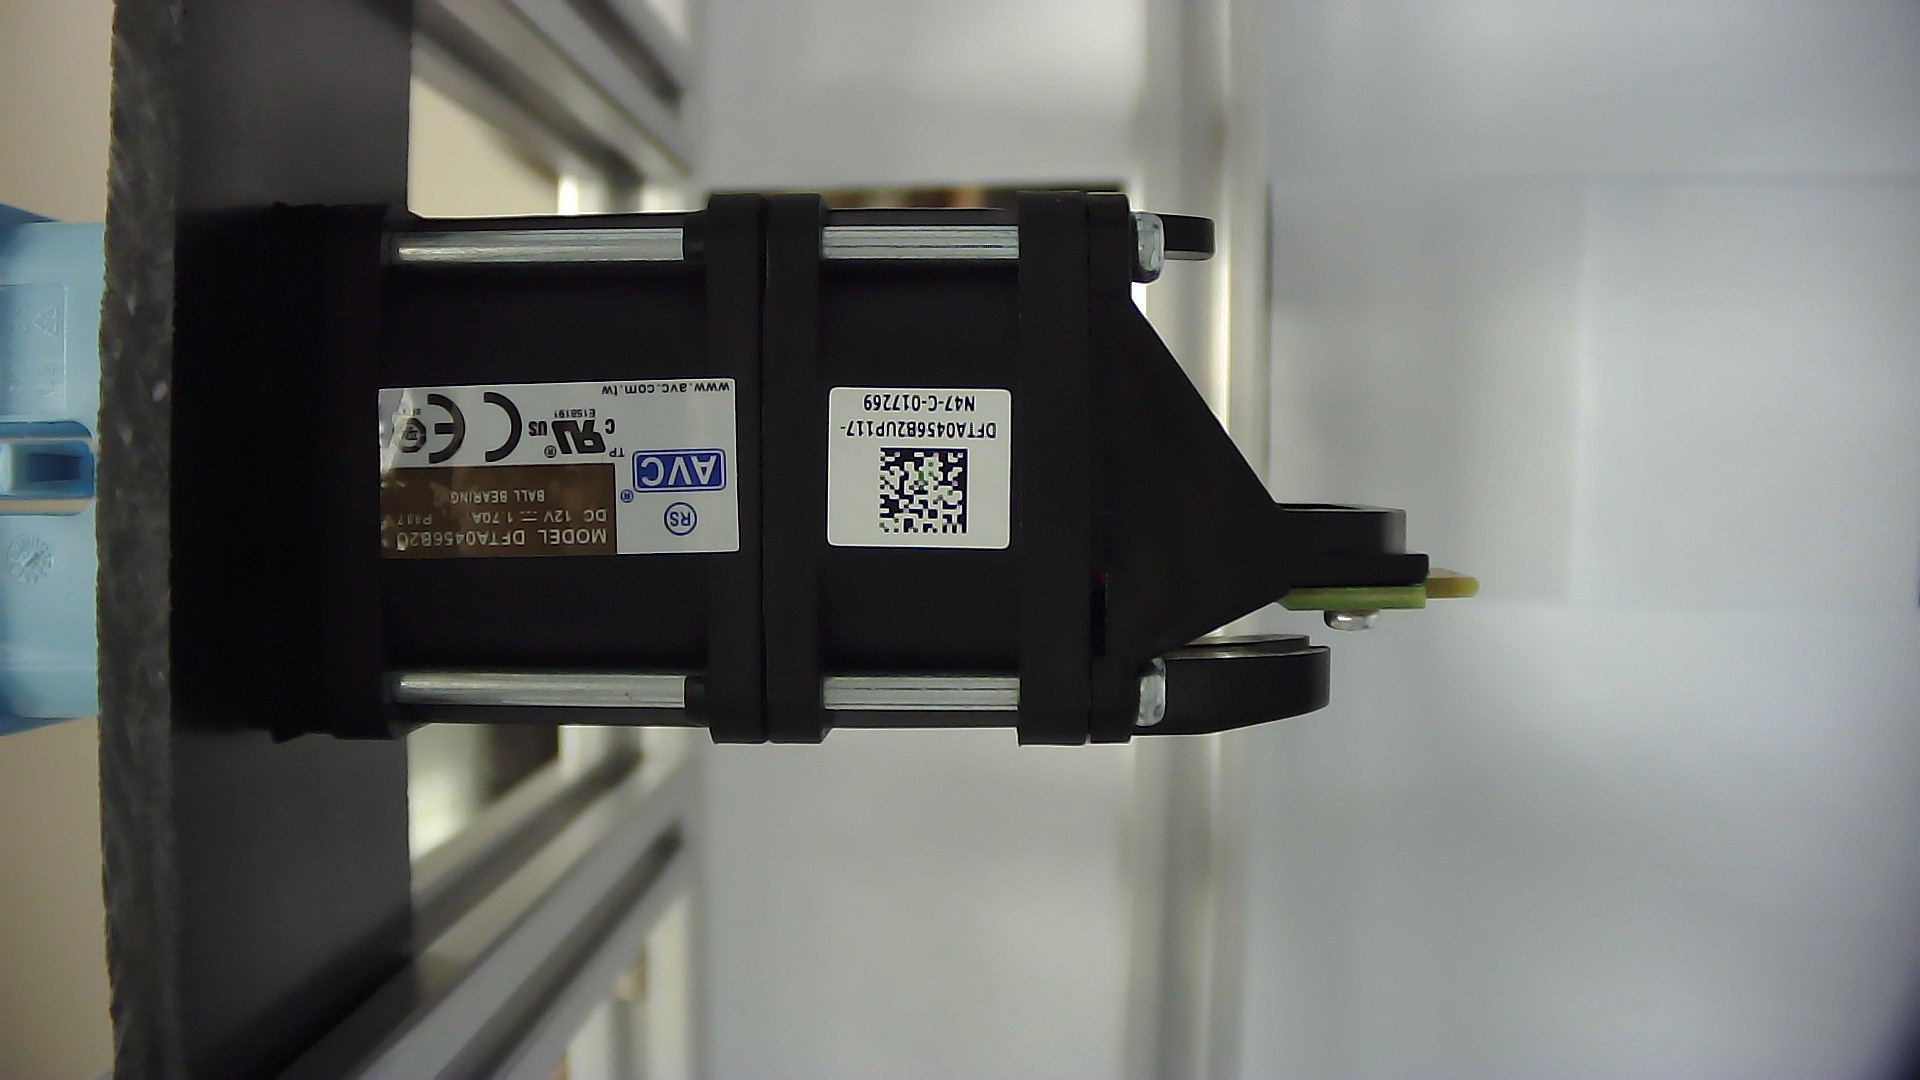8_0: (335, 154, 1518, 782)
